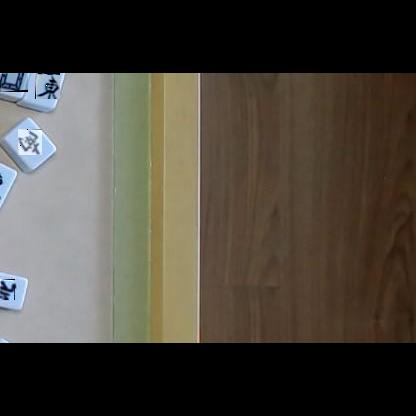1z: (35, 73, 60, 99)
2z: (18, 129, 42, 155)
4z: (0, 279, 15, 300)
5z: (0, 73, 28, 92)
